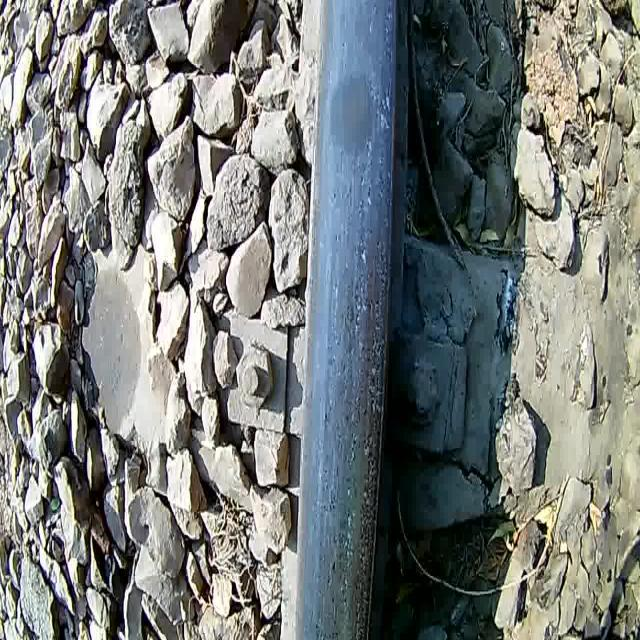Squats: (283, 0, 417, 640)
